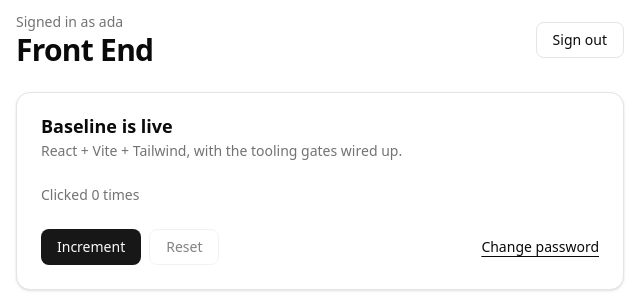
Test: Showcase › uses the singular label at exactly one
The width and height of the screenshot is (641, 308).
Click the button "Increment" at [91, 247], box [41,229,141,265]
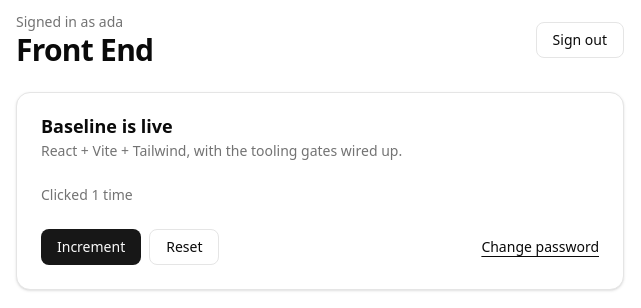
Expected: the text with test id "count" reads "Clicked 1 time", [41,185,133,204]
